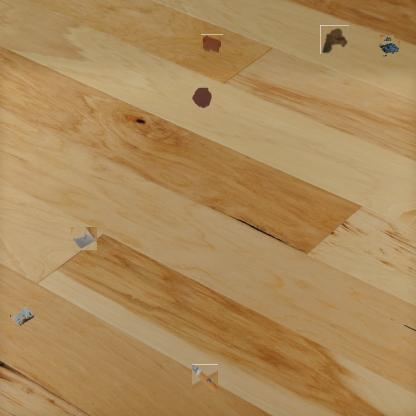dirty: (320, 25, 349, 54), (192, 364, 218, 393), (72, 225, 96, 251), (10, 304, 34, 328), (377, 38, 397, 58)
liquid: (191, 86, 213, 110), (201, 34, 223, 53)
